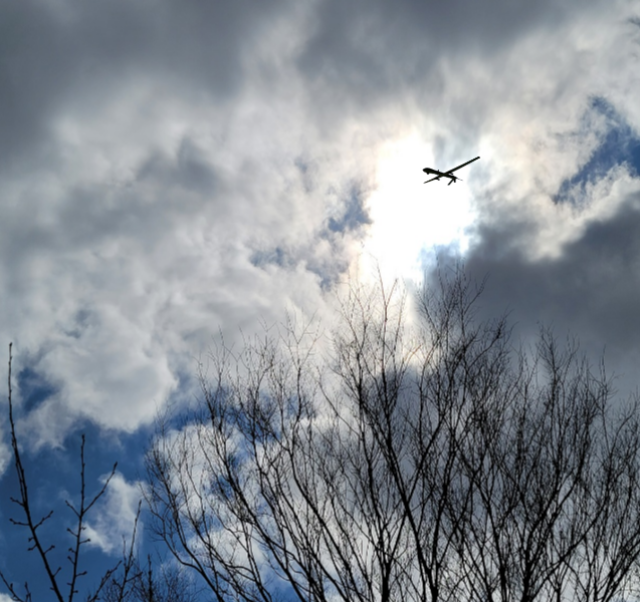military drone: (422, 155, 480, 185)
